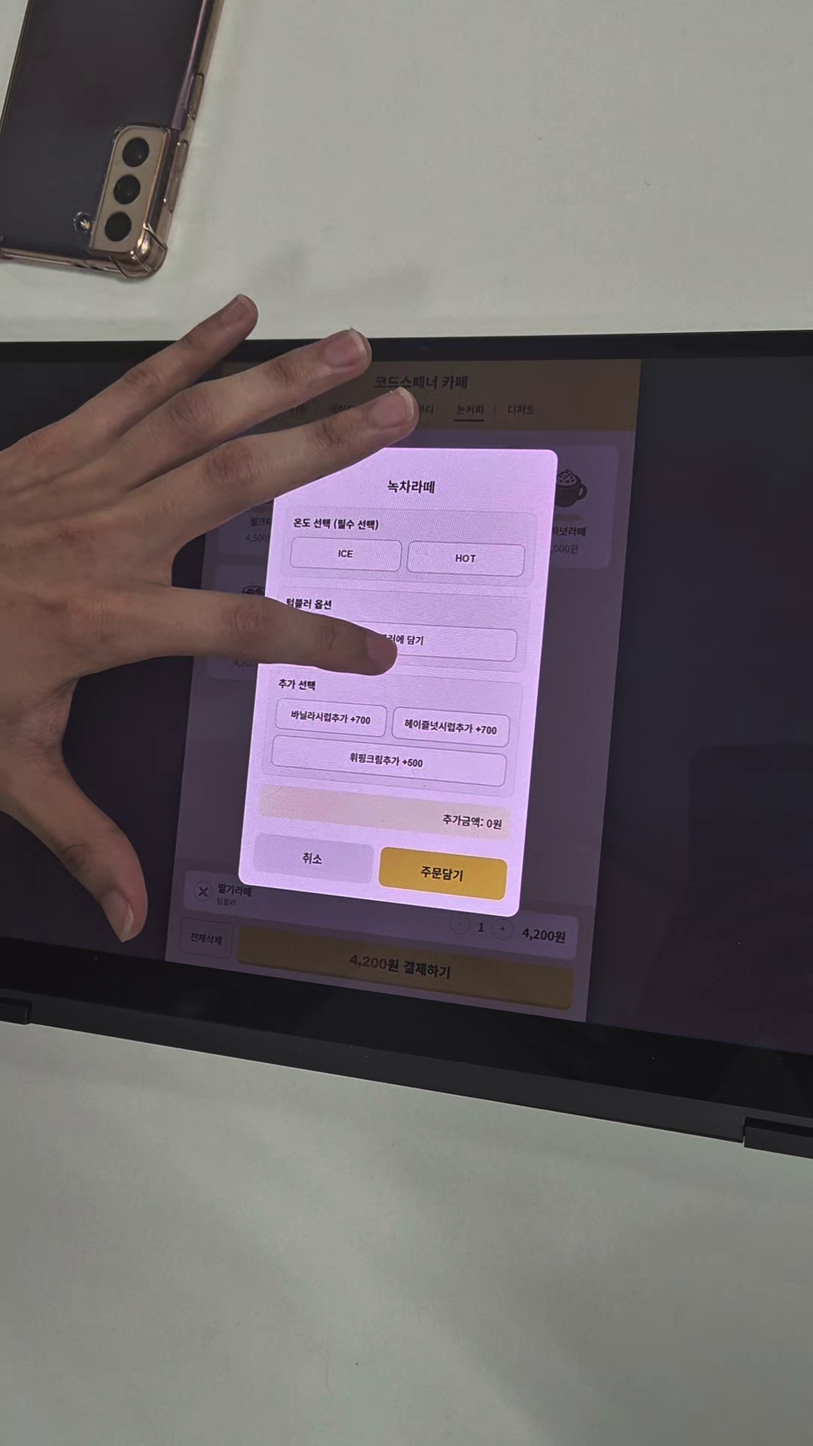action_button: (378, 846, 508, 902), (252, 831, 375, 885)
menu_name: (385, 481, 435, 497)
option_button: (271, 734, 506, 786), (283, 618, 517, 662), (392, 707, 510, 748), (274, 698, 387, 738), (407, 541, 525, 577), (290, 536, 402, 571)
popup_modal: (238, 448, 558, 917)
